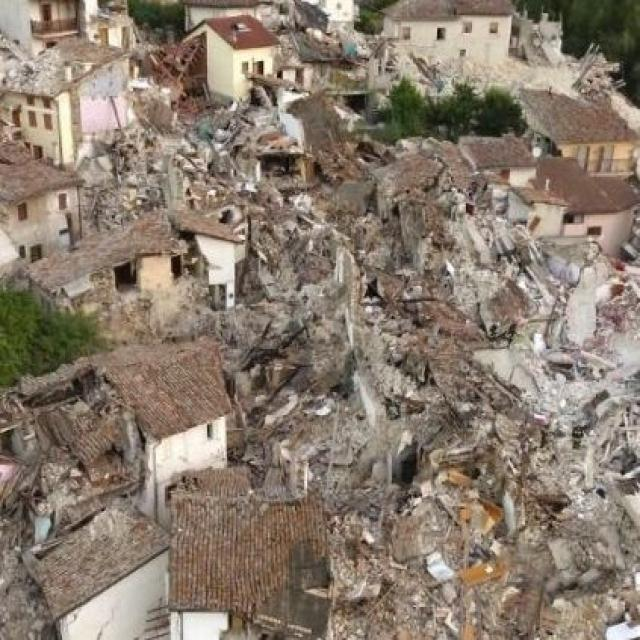collapsed_building: (351, 160, 634, 362), (4, 342, 227, 584)
